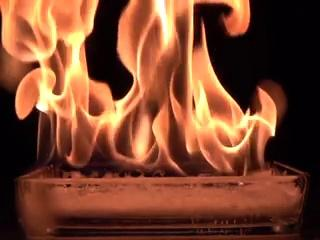Fire: (31, 1, 287, 181)
